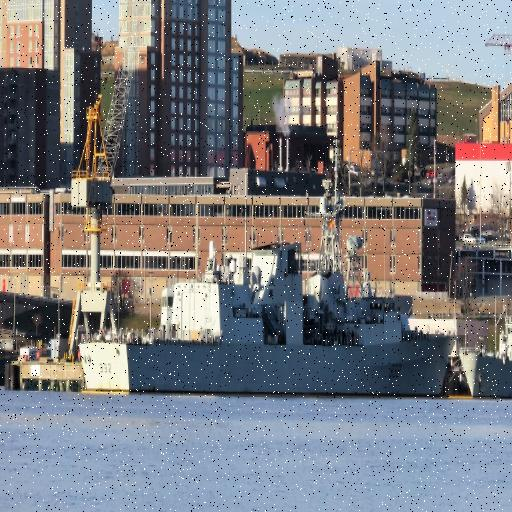Fragata: (74, 174, 460, 404)
